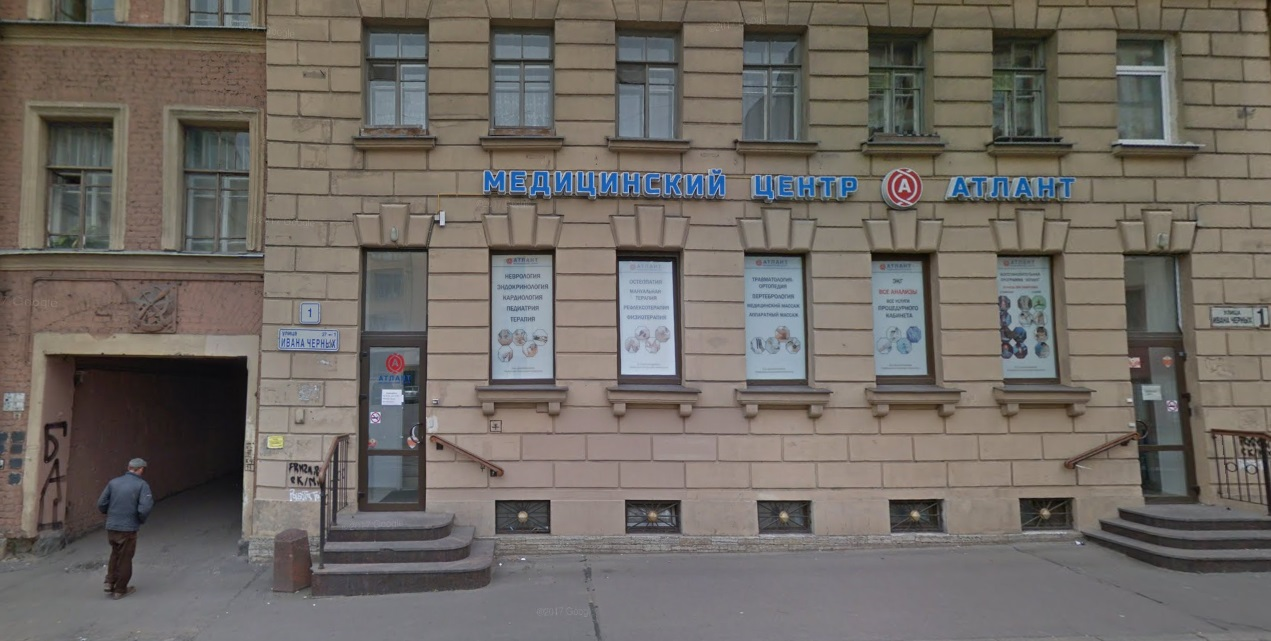arch: (33, 346, 245, 560)
door: (356, 332, 424, 512), (1134, 339, 1192, 508)
signboard: (481, 162, 1079, 205)
window: (41, 120, 114, 246), (488, 248, 557, 381), (997, 253, 1064, 388), (185, 121, 250, 259), (617, 253, 682, 391), (745, 247, 804, 383), (489, 22, 558, 133), (615, 26, 677, 140), (364, 22, 429, 127), (993, 32, 1057, 138), (1117, 32, 1176, 146), (875, 256, 926, 387), (743, 31, 803, 142), (868, 31, 927, 140), (1123, 251, 1186, 337), (364, 249, 427, 330)
